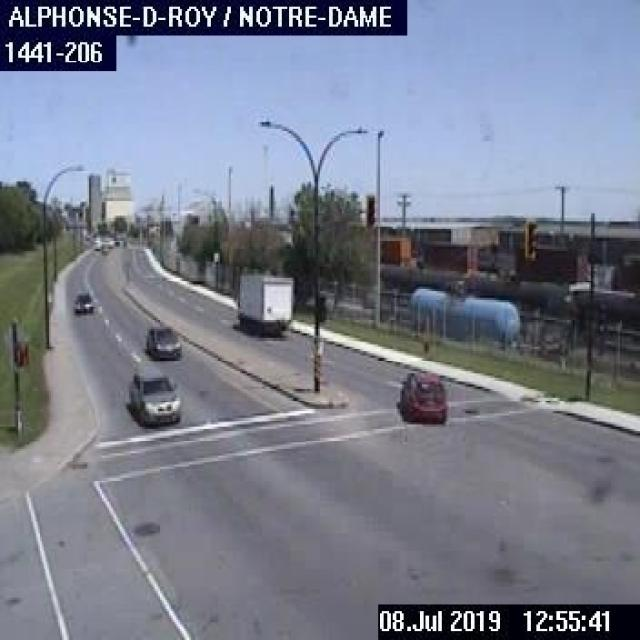vehicle: (229, 269, 293, 333), (127, 367, 178, 422), (398, 371, 446, 422), (146, 324, 178, 356), (71, 291, 93, 313)
